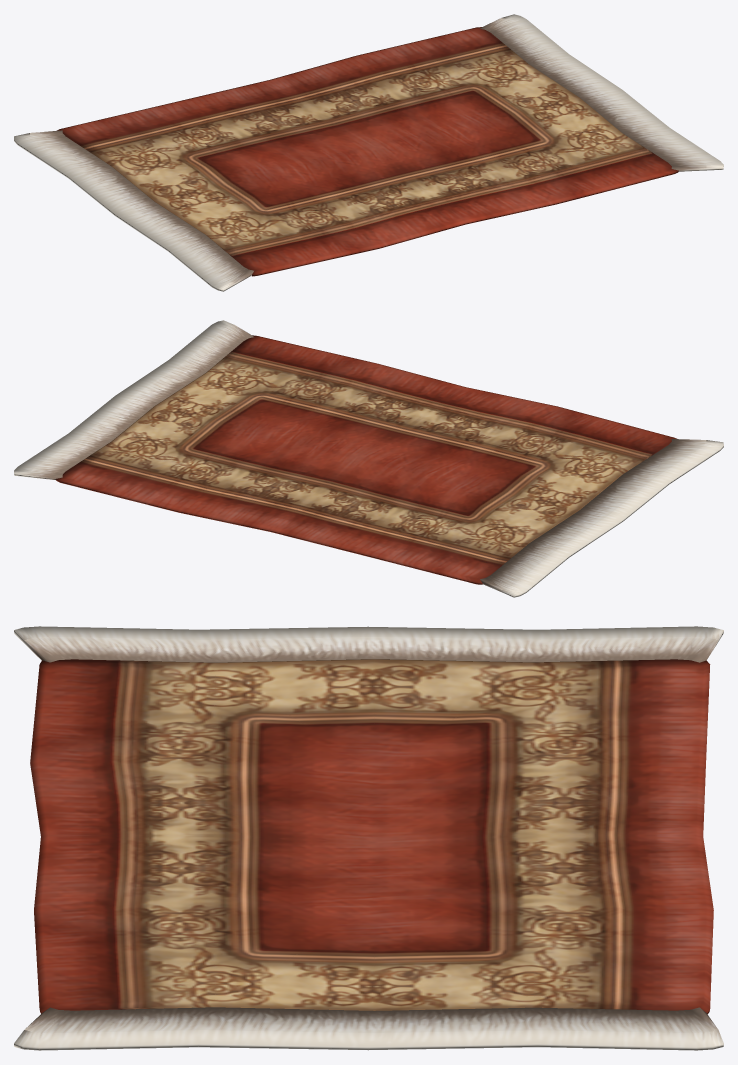
The model's file is CountryCarpet_HD.fbx.
3 renders of one model, top to bottom at view 1: azimuth 30°, elevation 25°; view 2: azimuth 150°, elevation 25°; view 3: azimuth 270°, elevation 25°, orthographic. The views are drawn at different scales.
Visible parts, largest first — view 1: CountryCarpet; view 2: CountryCarpet; view 3: CountryCarpet.
Boxes of the visible parts, x1,y1,x2,y2 form: CountryCarpet: [14, 14, 723, 291]; CountryCarpet: [14, 320, 723, 597]; CountryCarpet: [14, 626, 723, 1050].
Bounding box in the file's own units: 2.54 × 0.0149 × 1.81.
1 material, 1 textured.
